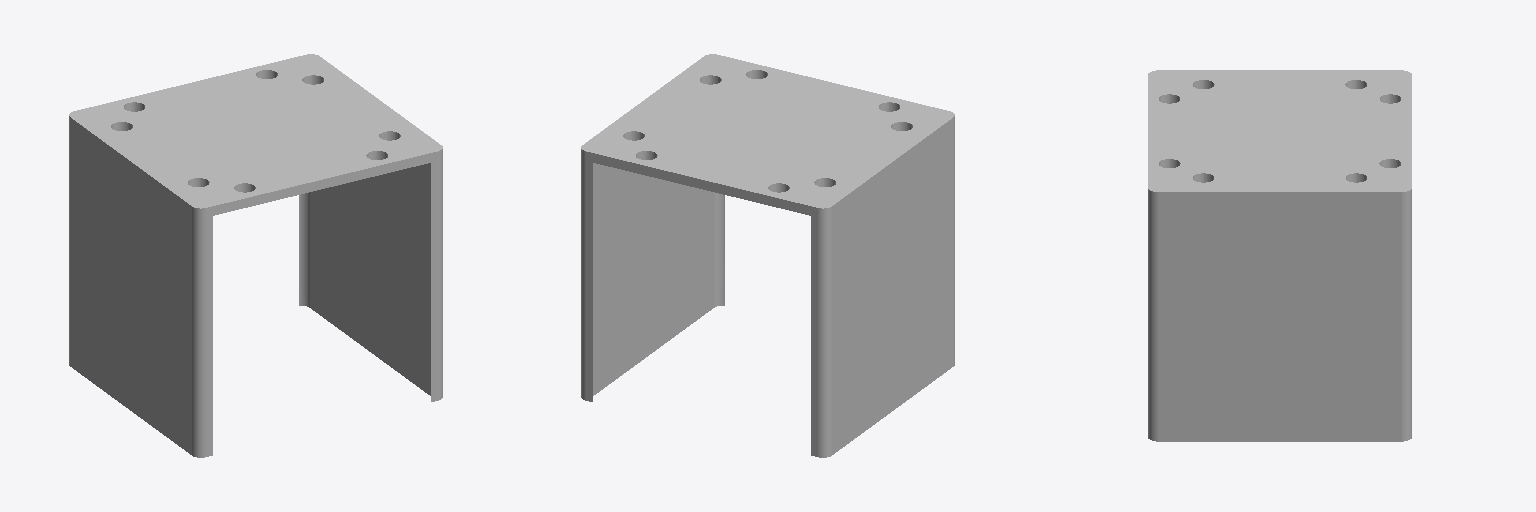
Rendered from V5_Outer Cover Full.obj.
3 views of the same model, side by side, from view 1: azimuth 30°, elevation 25°; view 2: azimuth 150°, elevation 25°; view 3: azimuth 270°, elevation 25° (orthographic).
Visible parts, largest first — view 1: Solid1:55; view 2: Solid1:55; view 3: Solid1:55.
Part boxes in pixels (x1,y1,x2,y2): Solid1:55: (69,54,442,457); Solid1:55: (581,54,954,457); Solid1:55: (1148,70,1411,441).
Bounding box in the file's own units: 54.3 × 51.8 × 49.75.